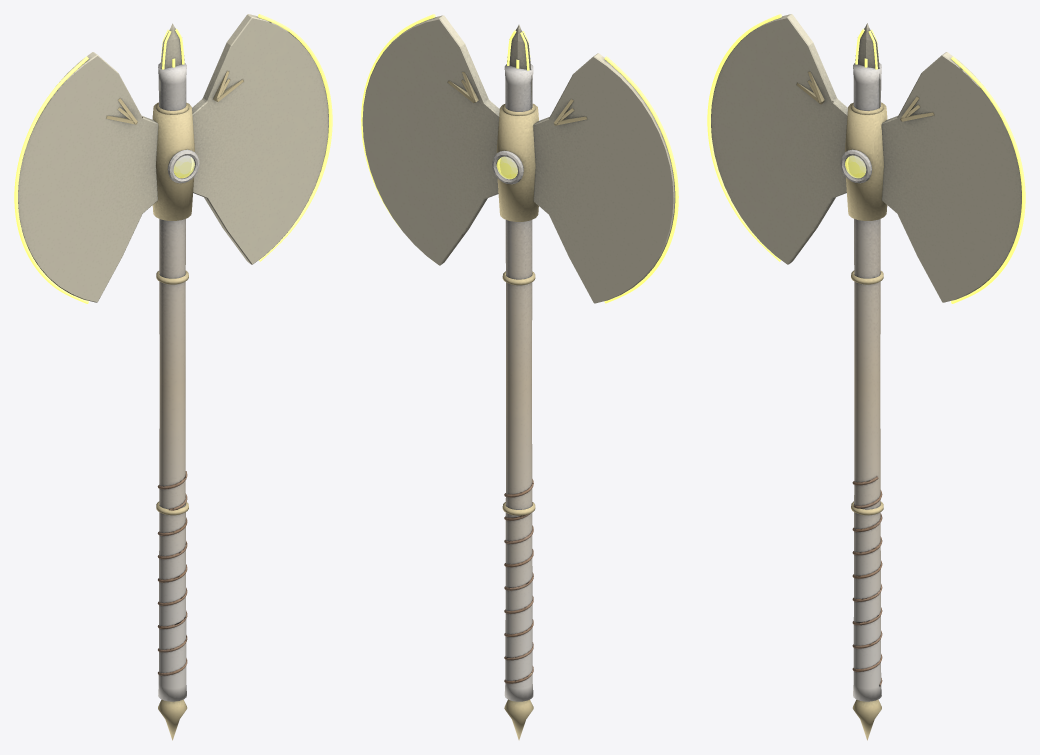
File: arma_lend_machado_gigante_celestial.glb
3 renders of one model, left to right at view 1: azimuth 30°, elevation 25°; view 2: azimuth 150°, elevation 25°; view 3: azimuth 330°, elevation 25°, orthographic.
Visible parts, largest first — view 1: arma_lend_machado_gigante_celestial, gume-1, gume1; view 2: arma_lend_machado_gigante_celestial, gume-1, gume1; view 3: arma_lend_machado_gigante_celestial, gume1, gume-1.
Boxes of the visible parts, x1,y1,x2,y2 form: arma_lend_machado_gigante_celestial: (18,14,328,740); gume-1: (14,56,88,303); gume1: (258,14,332,261); arma_lend_machado_gigante_celestial: (362,15,675,740); gume-1: (604,56,678,303); gume1: (361,14,435,226); arma_lend_machado_gigante_celestial: (711,14,1021,740); gume1: (951,56,1025,303); gume-1: (707,14,781,261).
Bounding box in the file's own units: 0.7923 × 1.71 × 0.1142.
Materials: 11 (1 with a texture image).
